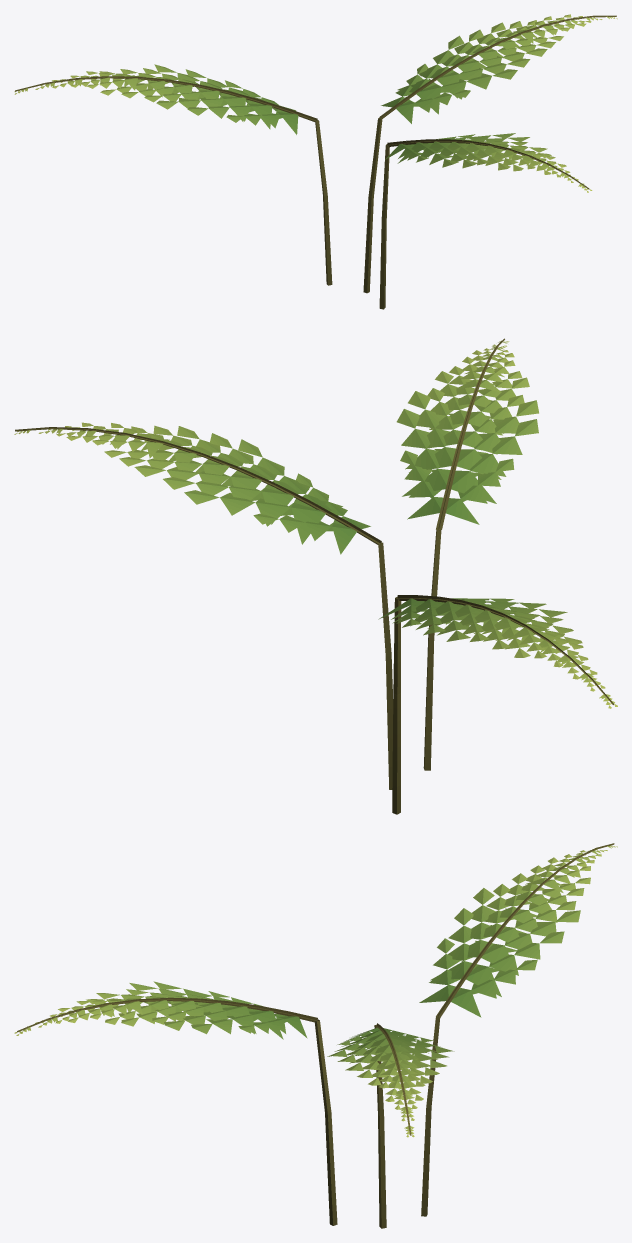
File: fern_bracken.glb
3 renders of one model, top to bottom at view 1: azimuth 30°, elevation 25°; view 2: azimuth 150°, elevation 25°; view 3: azimuth 270°, elevation 25°, orthographic. The views are drawn at different scales.
Visible parts, largest first — view 1: fern_bracken; view 2: fern_bracken; view 3: fern_bracken.
Part boxes in pixels (<box>): fern_bracken: <box>14,14,617,309</box>; fern_bracken: <box>14,338,617,814</box>; fern_bracken: <box>14,843,617,1228</box>.
Size of the model in its own units: 1.31 by 0.5224 by 1.09.
Materials: 1 (1 with a texture image).
